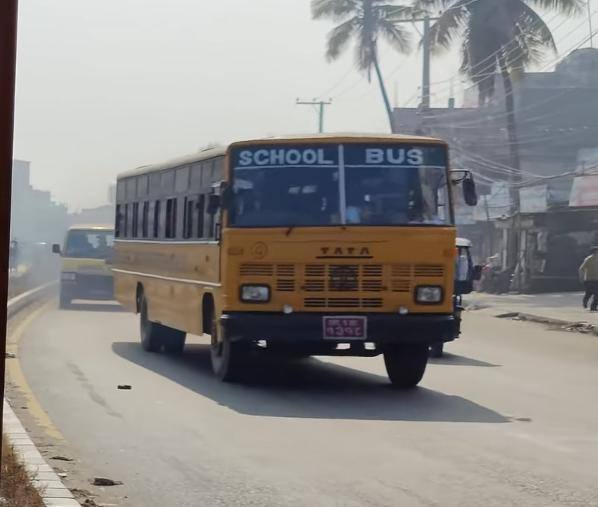school_bus: (104, 129, 481, 399), (52, 224, 128, 315)
